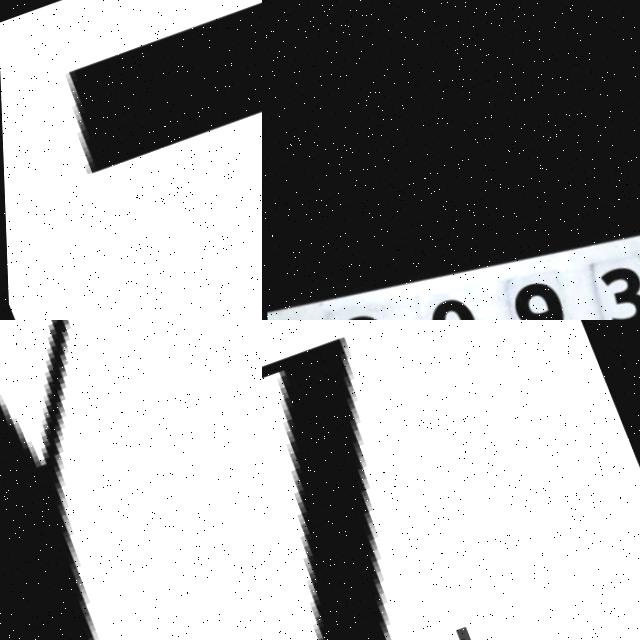0: (401, 275, 497, 320)
3: (575, 245, 640, 320)
7: (9, 0, 262, 320)
9: (485, 256, 585, 320), (310, 288, 414, 320)
Y: (0, 320, 262, 640)
Z: (262, 321, 547, 640)
